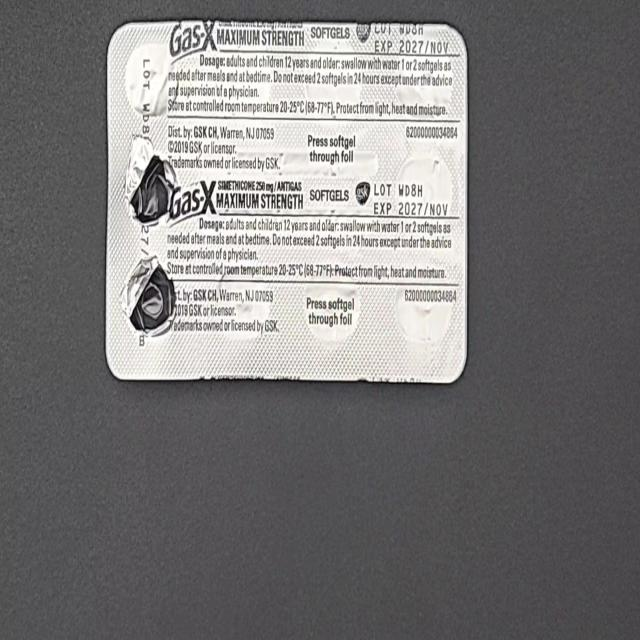defect: (117, 241, 180, 343), (121, 130, 180, 232)
